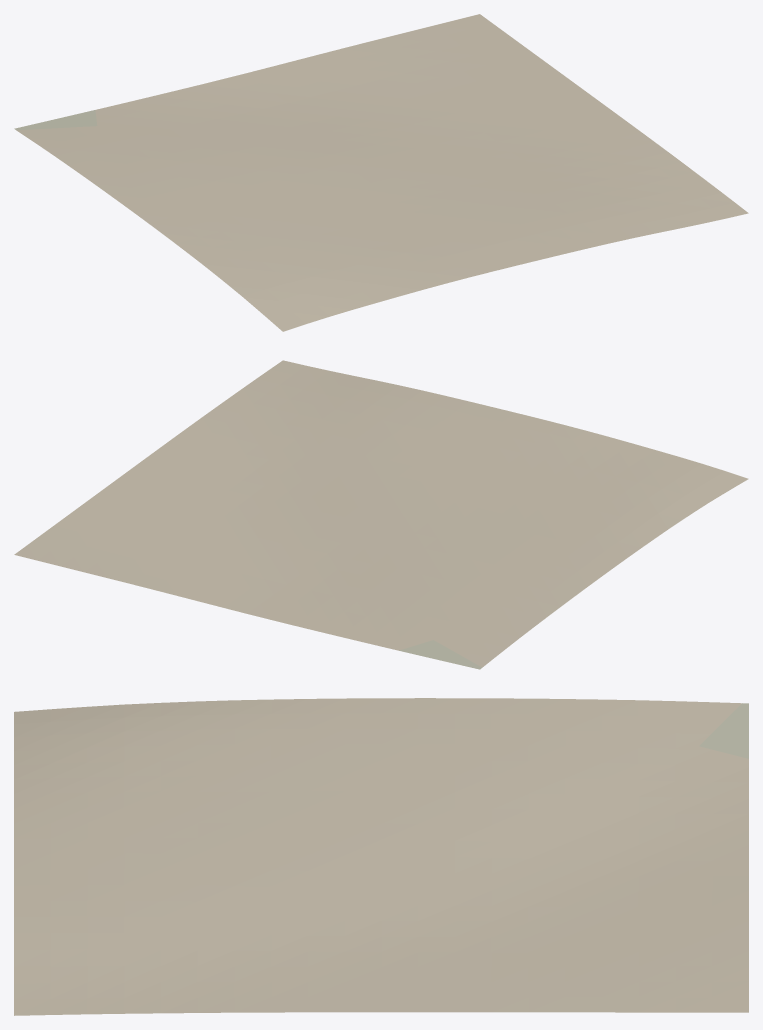
File: bolak_-25_-2.glb
3 renders of one model, top to bottom at view 1: azimuth 30°, elevation 25°; view 2: azimuth 150°, elevation 25°; view 3: azimuth 270°, elevation 25°, orthographic. The views are drawn at different scales.
Visible parts, largest first — view 1: Yer_Tuproq-col, Yer_Qabr; view 2: Yer_Tuproq-col, Yer_Qabr; view 3: Yer_Tuproq-col, Yer_Qabr.
Part boxes in pixels (box(x1,y1,x2,y2)): Yer_Tuproq-col: box(16, 14, 748, 331); Yer_Qabr: box(14, 110, 97, 130); Yer_Tuproq-col: box(14, 360, 748, 667); Yer_Qabr: box(399, 640, 482, 669); Yer_Tuproq-col: box(14, 698, 748, 1015); Yer_Qabr: box(699, 703, 748, 758).
Size of the model in its own units: 400 by 8.48 by 400.
